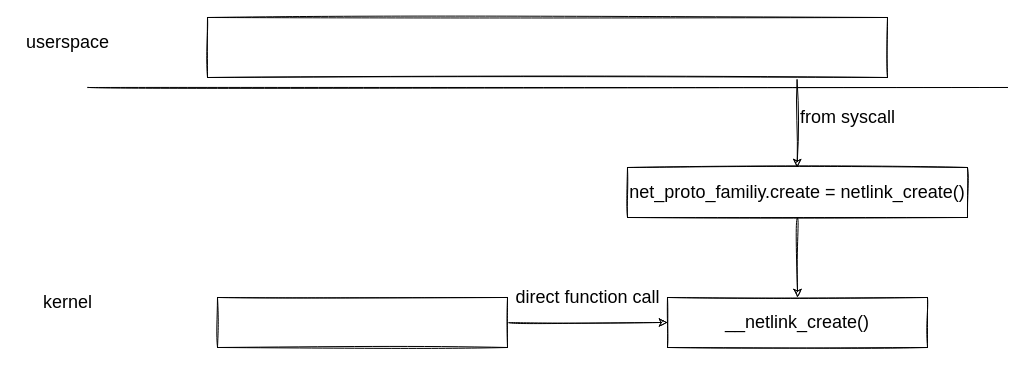
This 1025x365 diagram has some shape labels left out. The box of each missing label's shape, as (x1, y1, x2, y2) in pixels:
netlink_kernel_create(): (216, 296, 508, 348)
socket(AF_NETLINK, SOCK_RAW | SOCK_CLOEXEC, NETLINK_ROUTE): (206, 16, 888, 78)
